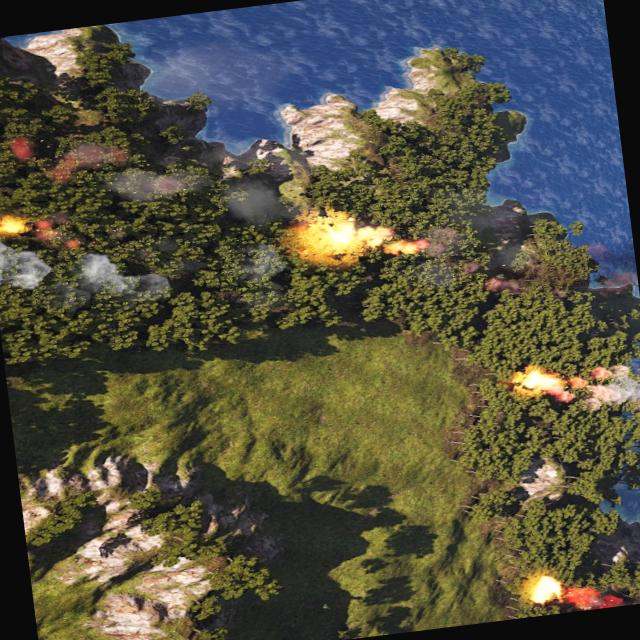fire: (298, 206, 387, 259), (515, 364, 564, 395), (526, 572, 562, 604), (383, 237, 421, 257), (0, 214, 27, 236)
smoke: (150, 41, 286, 111), (72, 240, 170, 306), (562, 359, 640, 435), (100, 162, 218, 208), (0, 222, 54, 295), (46, 138, 132, 181), (222, 172, 288, 226), (563, 574, 640, 612), (380, 222, 460, 257), (31, 215, 82, 253), (562, 582, 625, 612), (6, 137, 33, 162)
